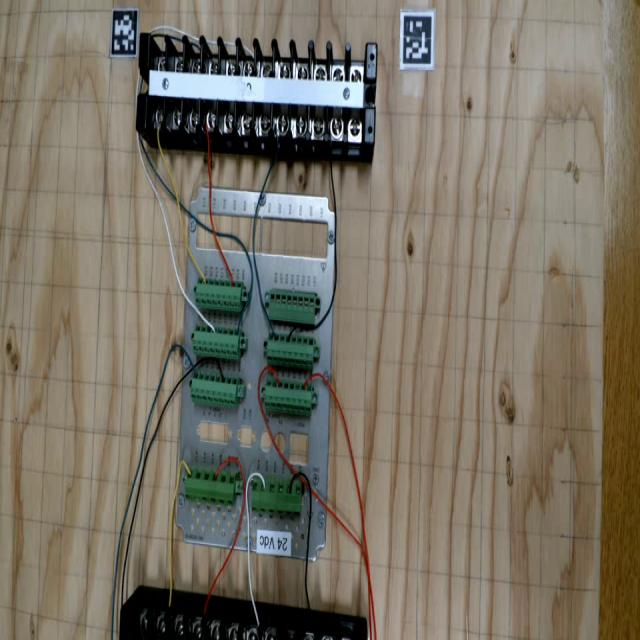Flathead_Block: (119, 609, 368, 640)
Phillips_Block: (135, 31, 379, 143)
Terminal_1: (250, 475, 304, 516), (183, 467, 238, 507)
Terminal_2: (189, 370, 241, 408), (266, 333, 315, 370), (194, 277, 244, 312), (264, 379, 312, 415), (191, 325, 241, 359)
